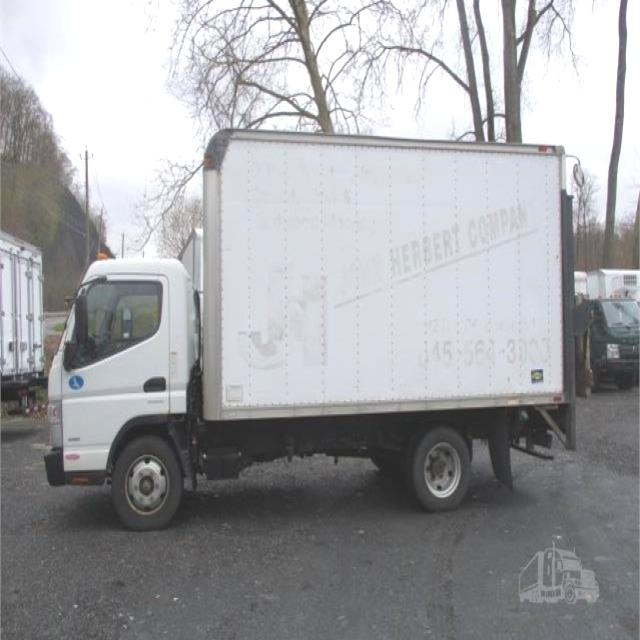truck: (44, 124, 562, 526)
